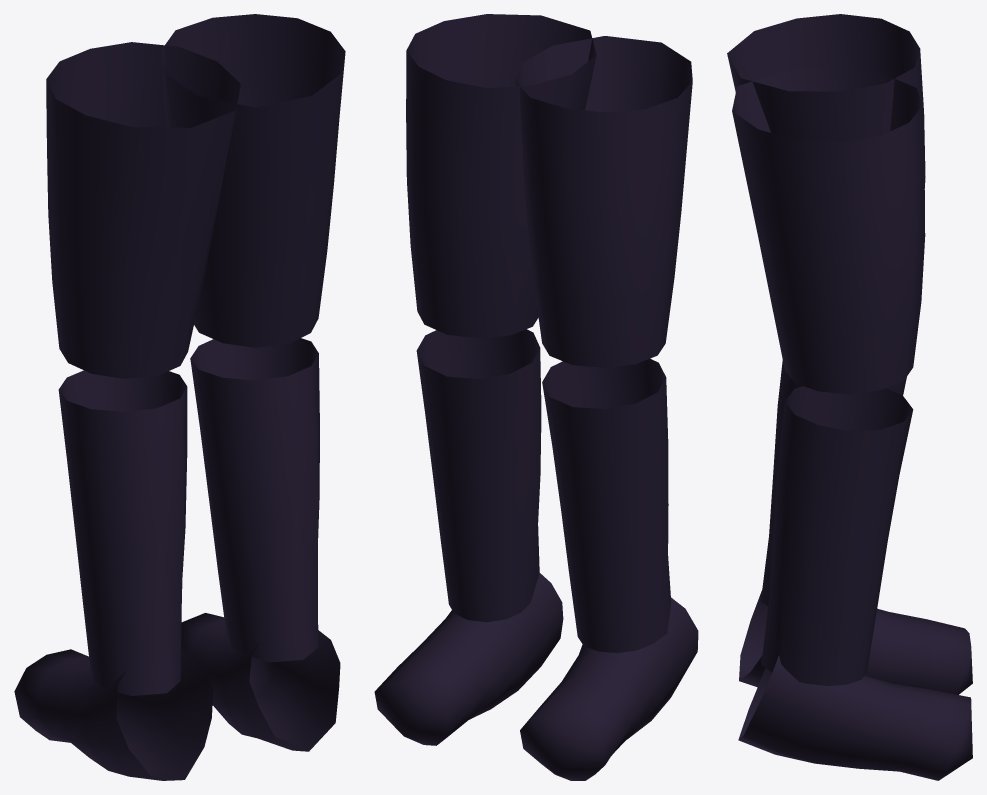
Rendered from witch_boots.glb.
3 views of the same model, side by side, from view 1: azimuth 30°, elevation 25°; view 2: azimuth 150°, elevation 25°; view 3: azimuth 270°, elevation 25° (orthographic). The views are drawn at different scales.
Visible parts, largest first — view 1: witch_boots_cuisse.L; view 2: witch_boots_cuisse.L; view 3: witch_boots_cuisse.L.
Part boxes in pixels (left/top/right/bottom): witch_boots_cuisse.L: left=14, top=14, right=345, bottom=780; witch_boots_cuisse.L: left=374, top=14, right=698, bottom=780; witch_boots_cuisse.L: left=727, top=14, right=972, bottom=780.
Size of the model in its own units: 0.3928 by 0.9483 by 0.318.
